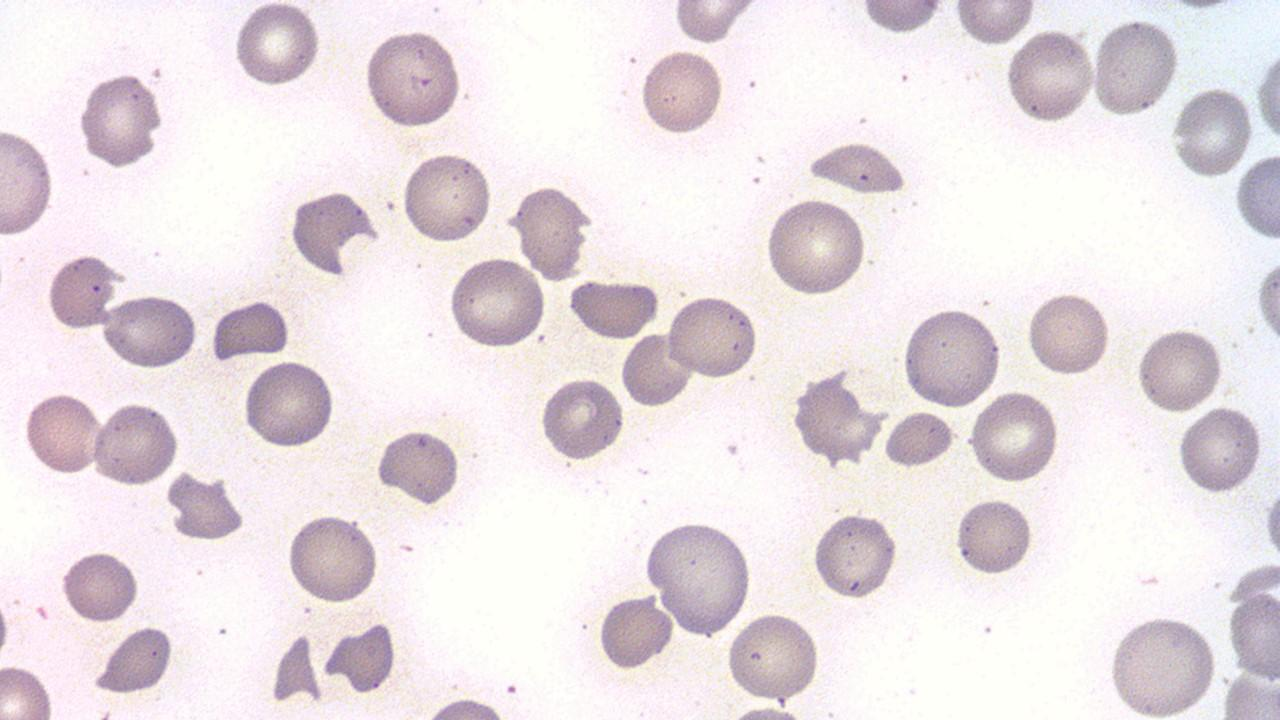RBC: (580, 0, 1021, 433), (226, 151, 622, 562), (642, 520, 755, 638), (1104, 611, 1218, 717), (763, 196, 869, 300), (900, 303, 1002, 410), (363, 28, 463, 131), (446, 256, 548, 351), (1090, 15, 1182, 120), (399, 148, 494, 247), (966, 387, 1060, 486), (1003, 27, 1097, 126), (286, 510, 382, 606), (725, 608, 822, 703), (241, 356, 336, 452), (286, 187, 383, 280), (508, 181, 592, 285), (77, 69, 162, 171), (665, 291, 761, 381), (230, 0, 322, 92), (1176, 402, 1264, 496), (1170, 82, 1254, 180), (1135, 324, 1225, 415), (810, 510, 898, 602), (1025, 288, 1113, 379), (92, 398, 180, 489), (638, 46, 724, 139), (99, 294, 200, 372), (538, 373, 624, 463), (372, 425, 464, 506), (950, 493, 1036, 579), (23, 390, 104, 478), (594, 590, 674, 674), (90, 622, 177, 696), (60, 546, 140, 625), (1, 125, 56, 239), (804, 138, 912, 196), (566, 276, 661, 340), (45, 252, 118, 333), (620, 330, 692, 409), (208, 297, 292, 363), (337, 614, 402, 696), (1225, 585, 1279, 683), (880, 408, 954, 470), (1233, 149, 1279, 244), (950, 1, 1039, 46), (670, 1, 754, 45), (0, 661, 55, 717), (858, 1, 946, 34), (1253, 40, 1279, 151), (1252, 253, 1280, 352), (420, 693, 511, 719)
WBC: (286, 187, 384, 282)
